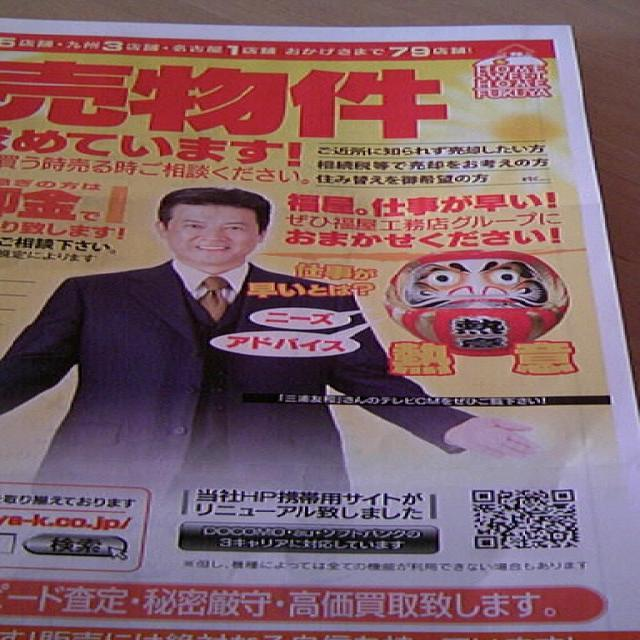qrcode: (473, 491, 579, 549)
